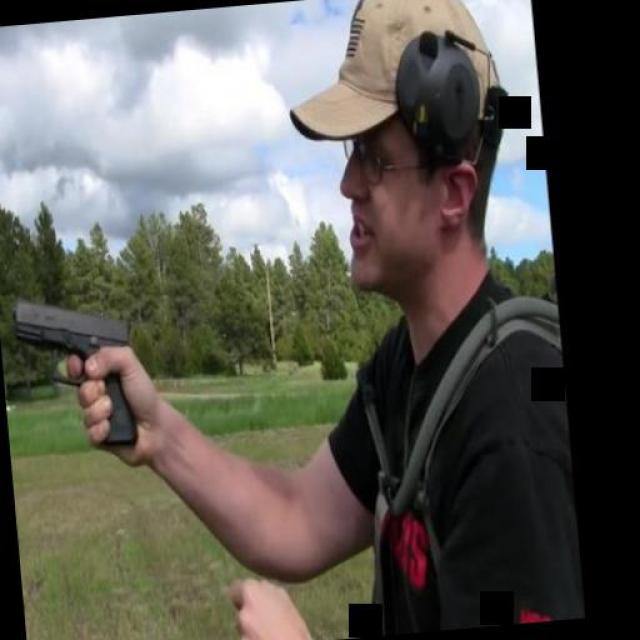gun: (9, 288, 149, 458)
